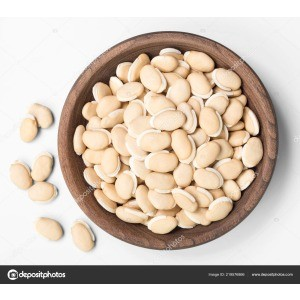beans_brain food: (98, 94, 248, 200)
